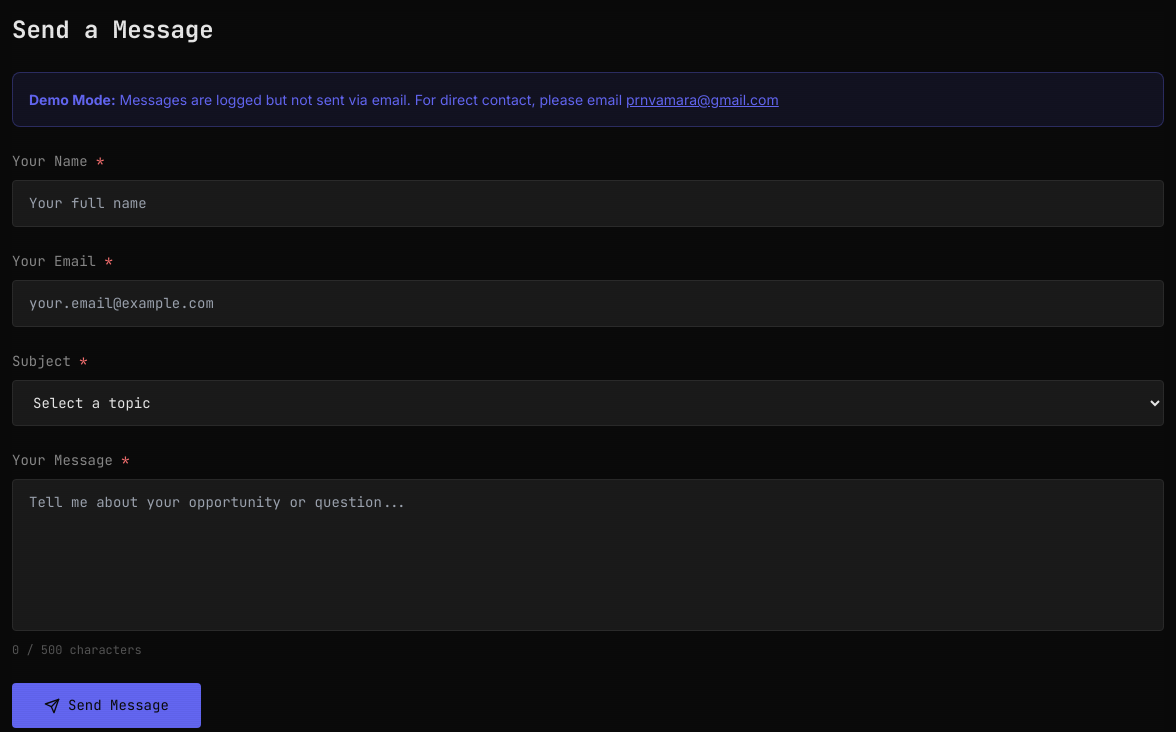
it: ContactForm › should validate name length
Type "A" into the field labelled "Your Name *". click: (588, 204)
box: [12,180,1164,227]
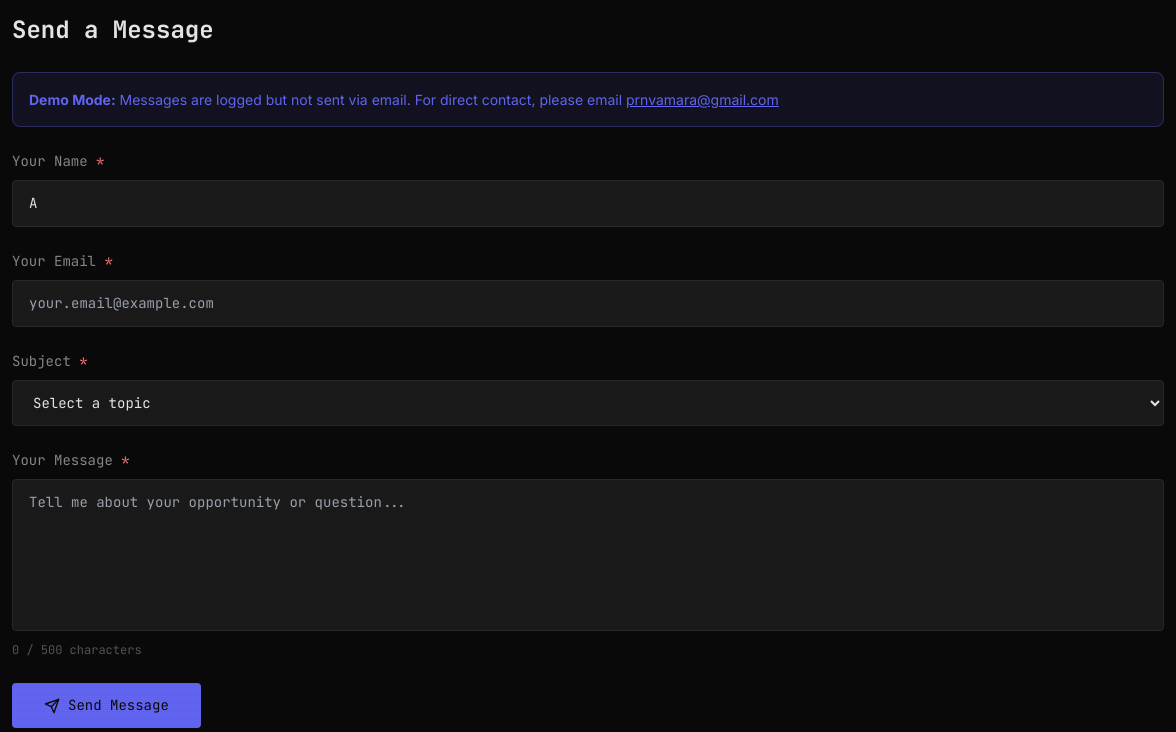
Click the button "Send Message". click: click(106, 706)
box: [12,683,201,728]
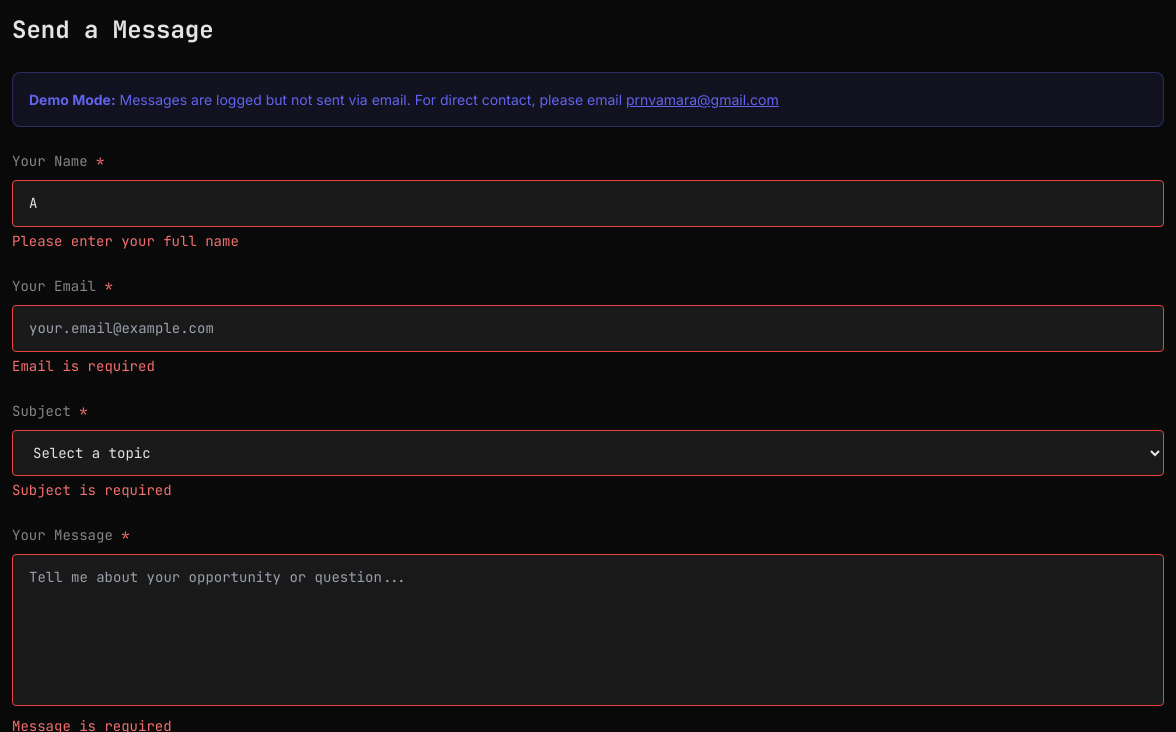
Check: the text "Please enter your full name" is shown, box [12,232,239,250]
